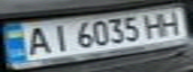0: (90, 18, 112, 47)
3: (109, 16, 127, 44)
5: (121, 14, 145, 43)
6: (72, 19, 96, 48)
A: (18, 24, 54, 56)
H: (139, 11, 169, 38), (157, 9, 187, 36)
I: (45, 21, 72, 53)
